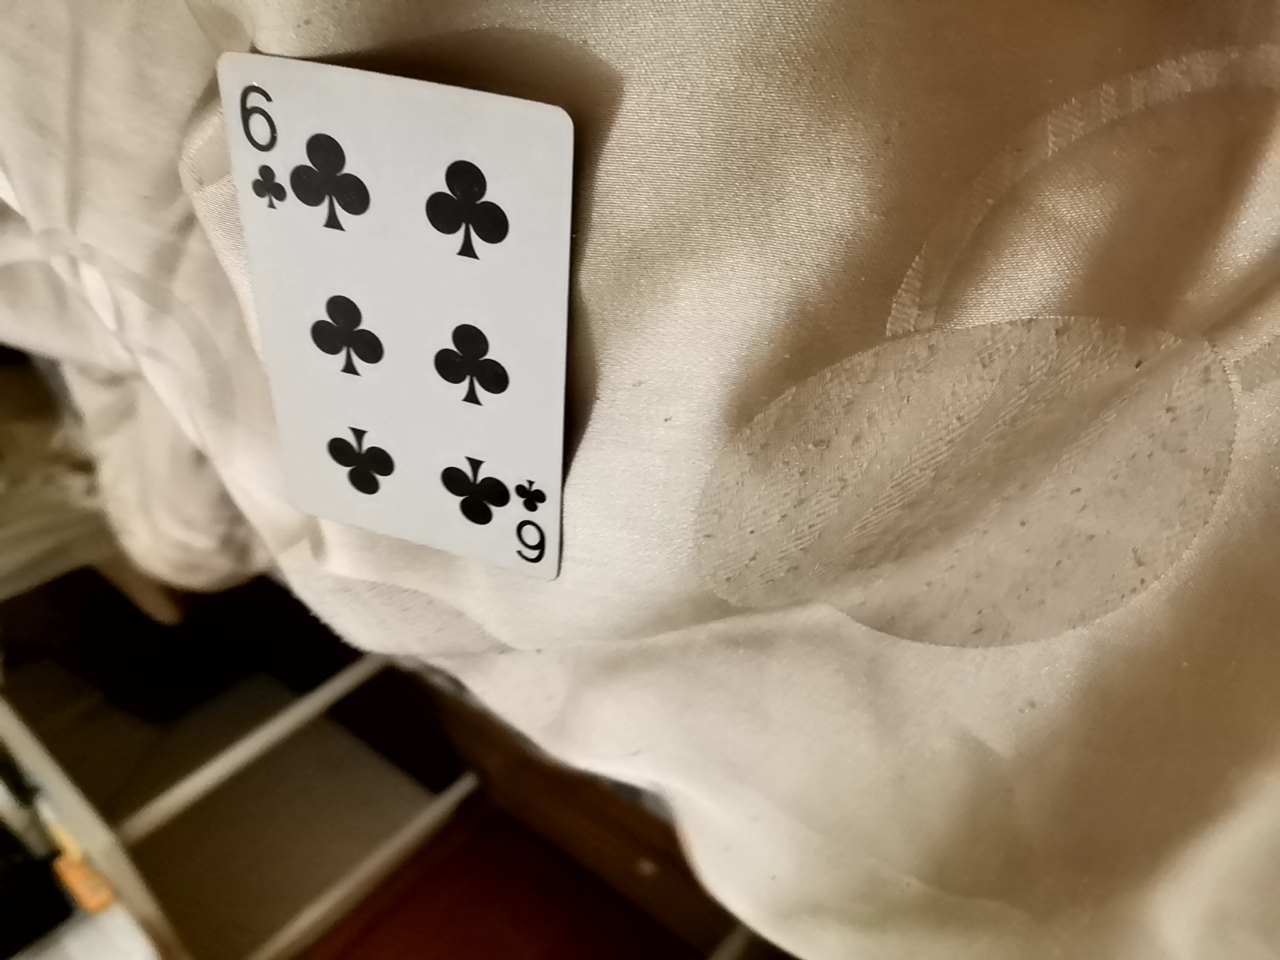mh 6: (223, 59, 600, 579)
